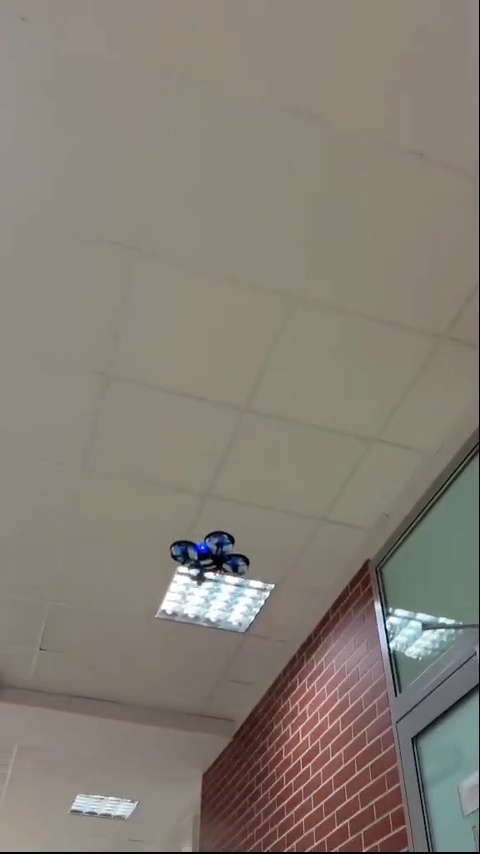drone: (170, 530, 253, 584)
